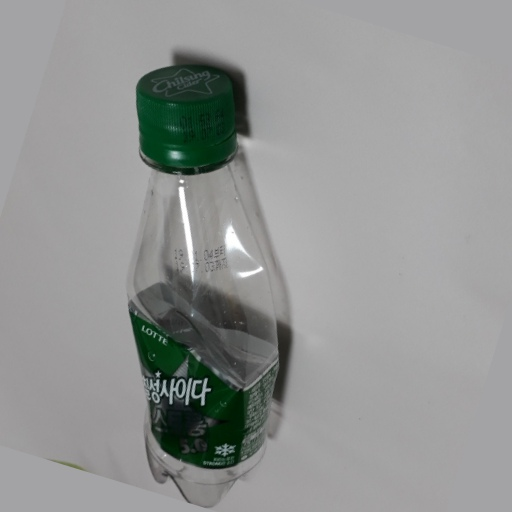Plastic_0: (128, 64, 284, 509)
